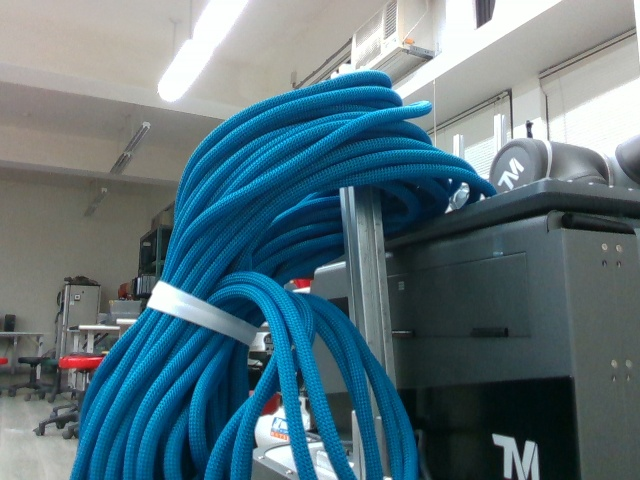rope: (64, 58, 433, 480)
